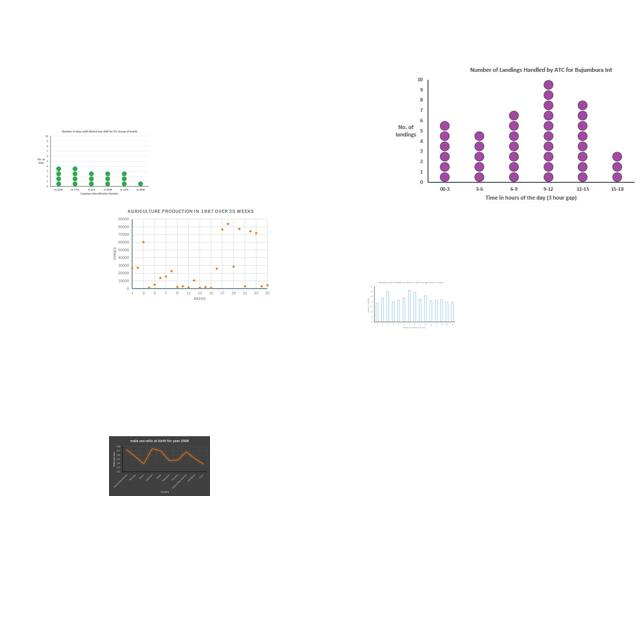Graph: (387, 61, 640, 207), (112, 207, 272, 302), (35, 129, 151, 197), (109, 436, 210, 496), (365, 280, 457, 331)
